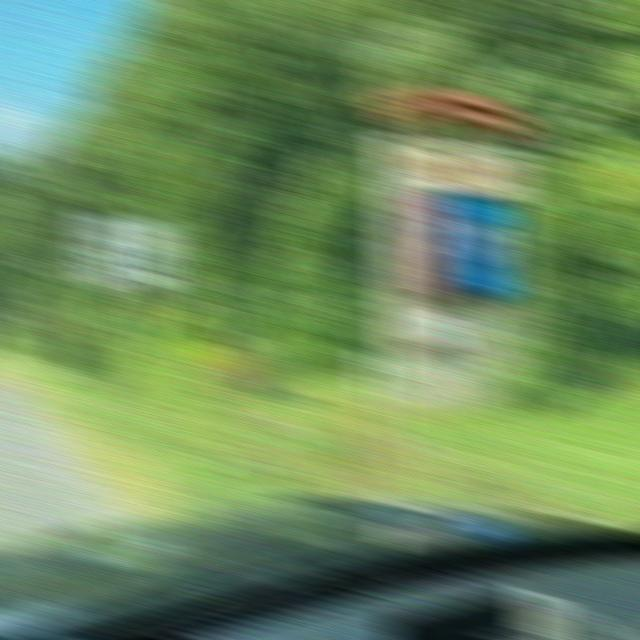speedLimit40: (128, 212, 177, 290)
